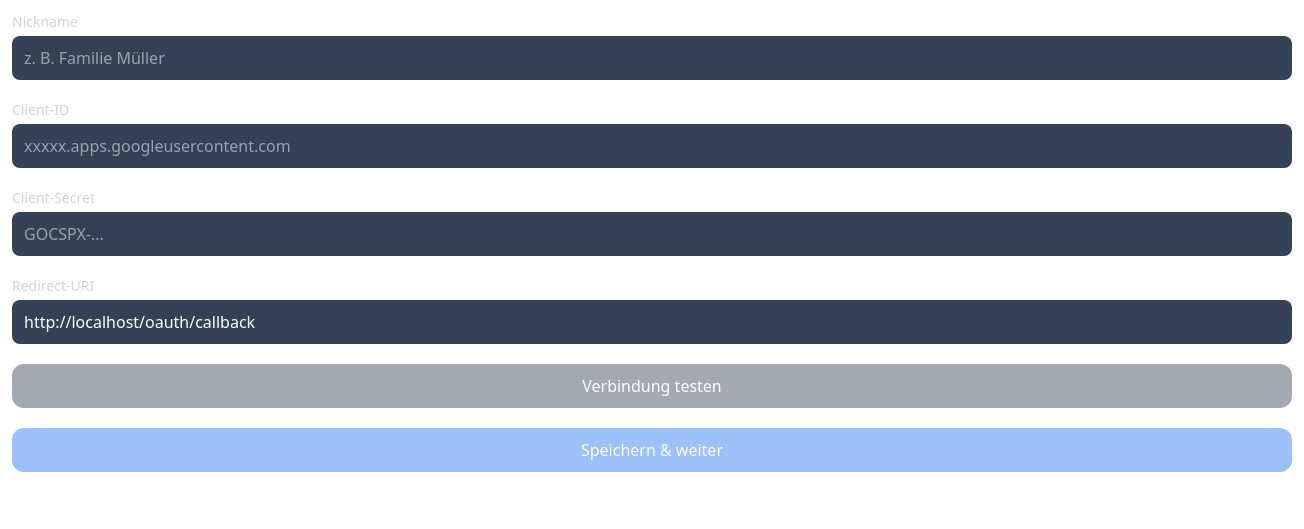
Test: CredentialsStep › falls back to "Verbindung erfolgreich." when isValid=true and message is null
The width and height of the screenshot is (1304, 529).
Type "Familie" into the field labelled "Nickname" at (652, 58), box [12,36,1292,80]
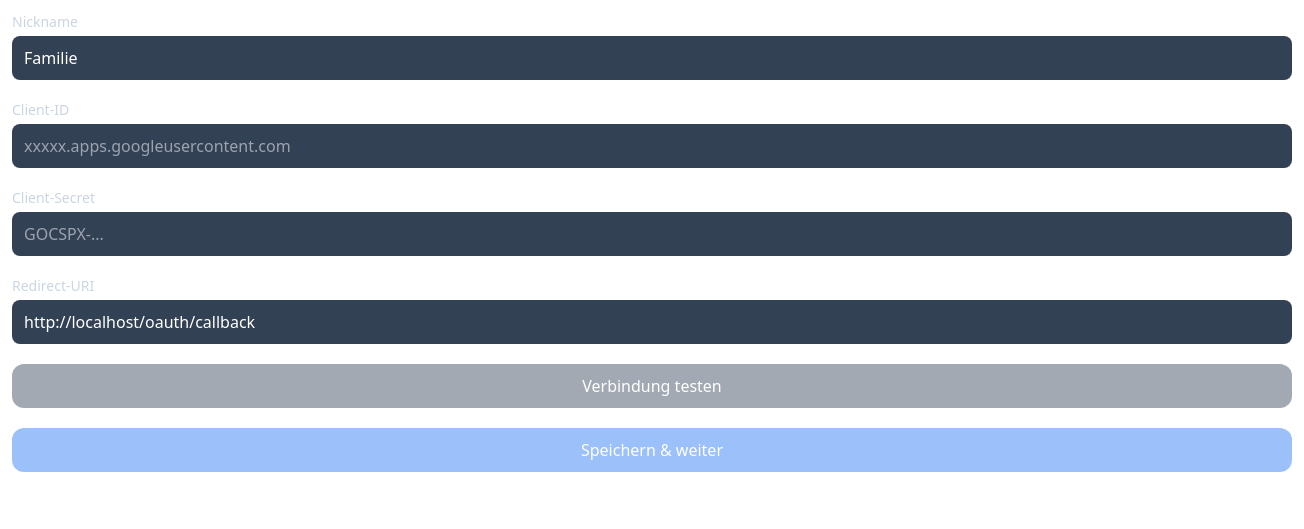
Type "client-id-123" into the field labelled "Client-ID" at (652, 146), box [12,124,1292,168]
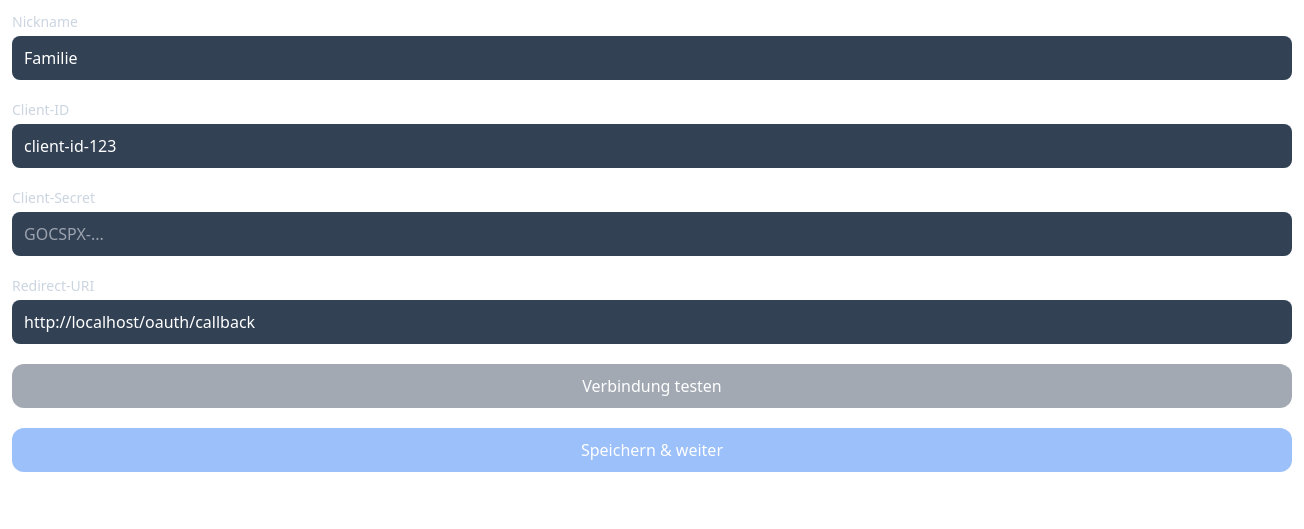
Type "secret-abc" into the field labelled "Client-Secret" at (652, 234), box [12,212,1292,256]
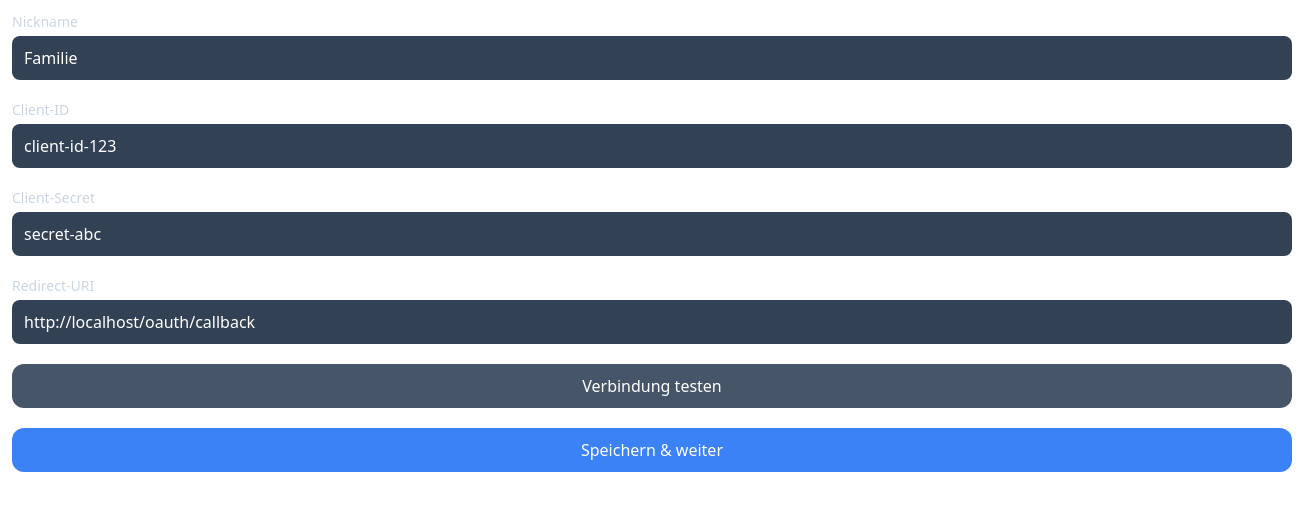
Click the button "Verbindung testen" at (652, 386), box [12,364,1292,408]
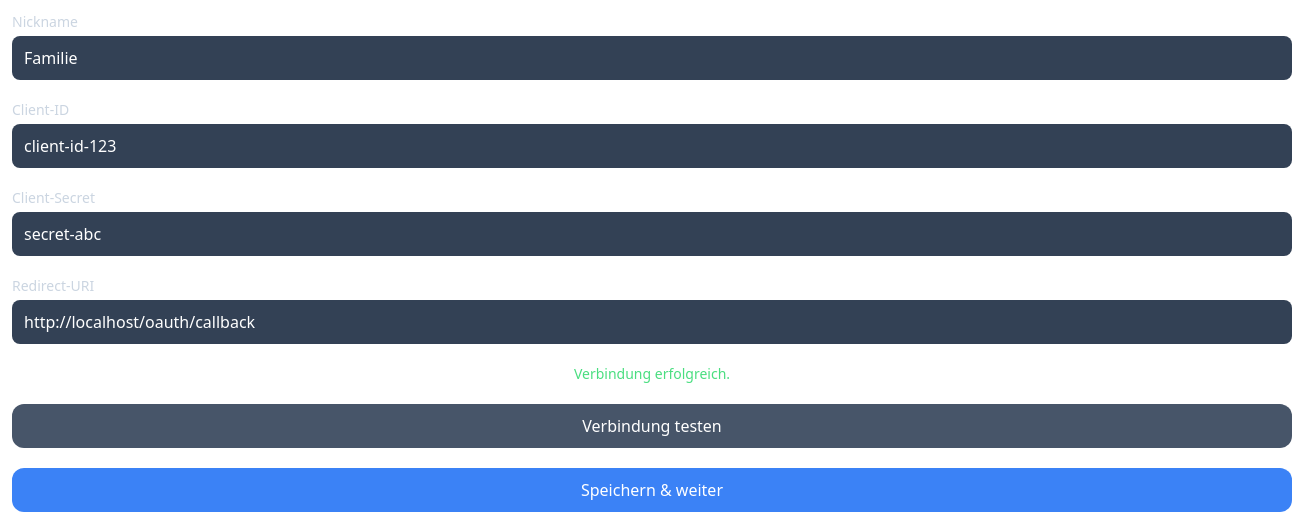
Now the text "Verbindung erfolgreich." is shown, box [574,364,730,383]
